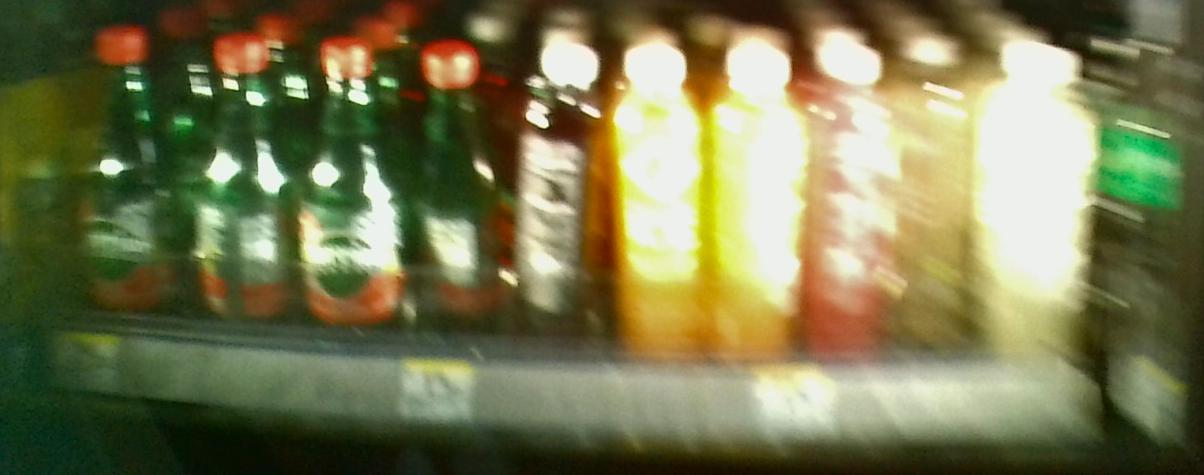bottle: (989, 37, 1091, 357), (709, 46, 805, 362), (301, 38, 401, 329), (191, 33, 289, 322), (813, 50, 901, 357), (611, 45, 700, 346), (78, 24, 170, 312), (514, 34, 602, 334), (416, 37, 502, 332)
